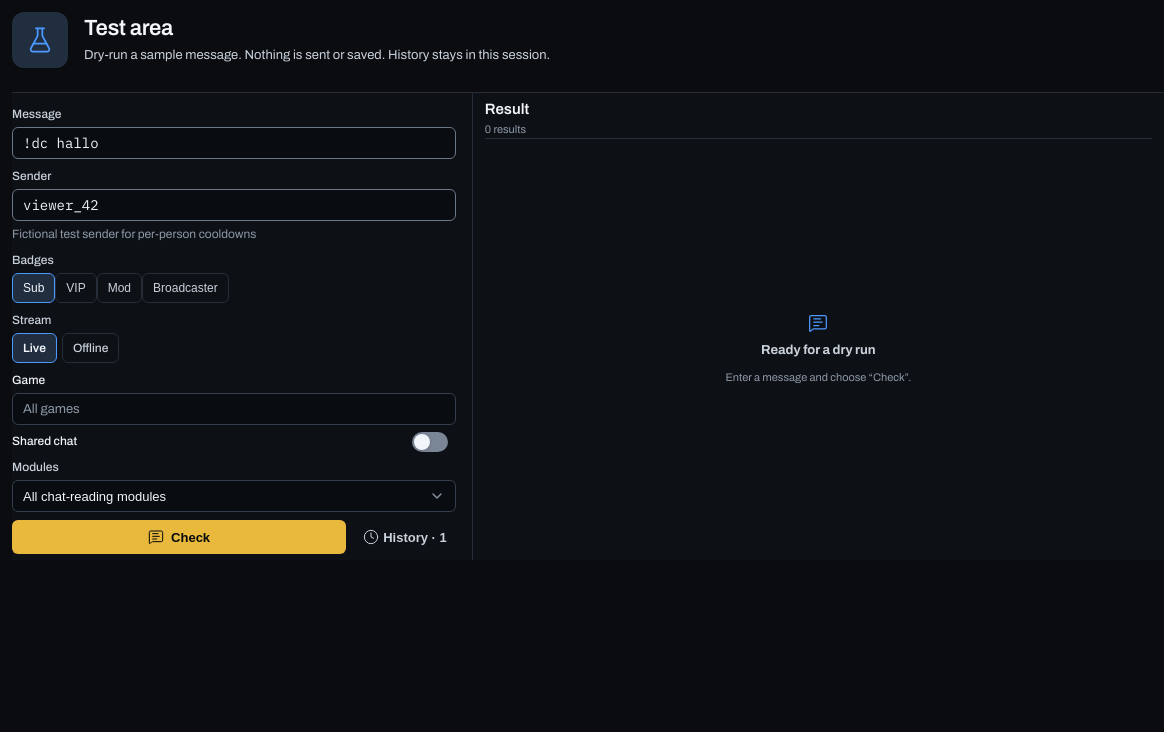
Testbereich voting result regressions › localizes an untitled ballot in English result rows and details
Replace the text in the field labelled "Message" with "!vote 2" at (234,143), box left=12, top=127, right=456, bottom=159
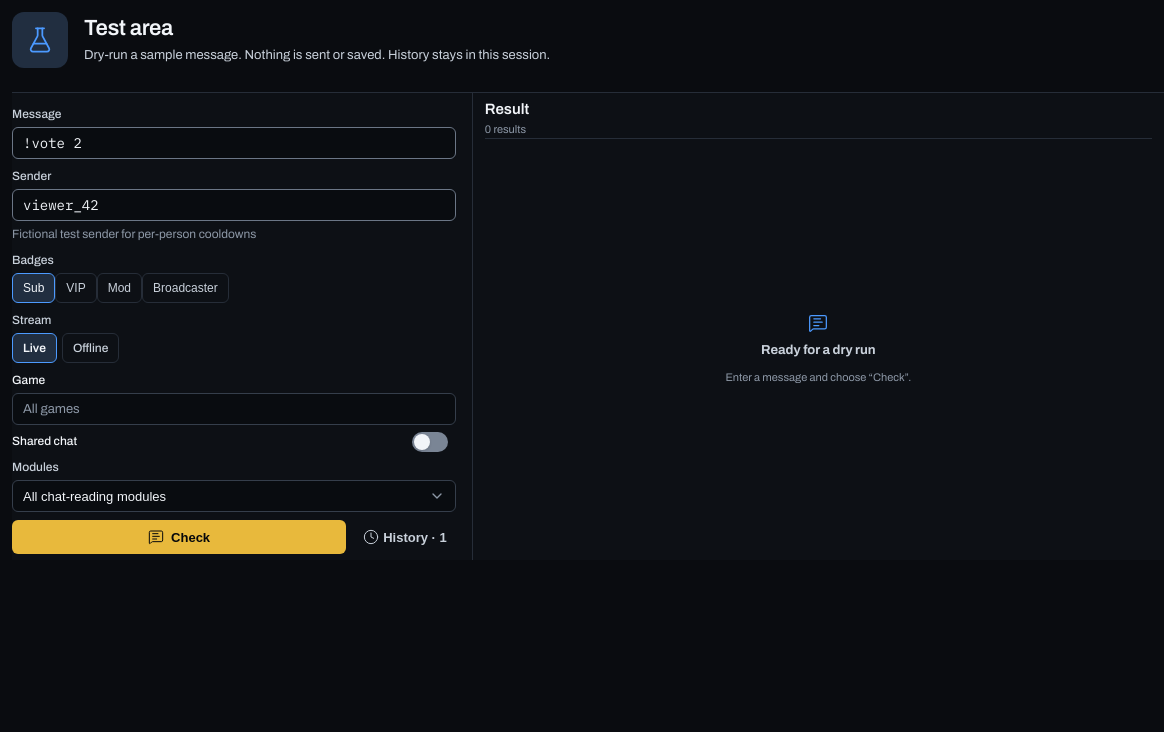
Click the button with class "test-area__run-button" at (179,537), box left=12, top=520, right=346, bottom=554
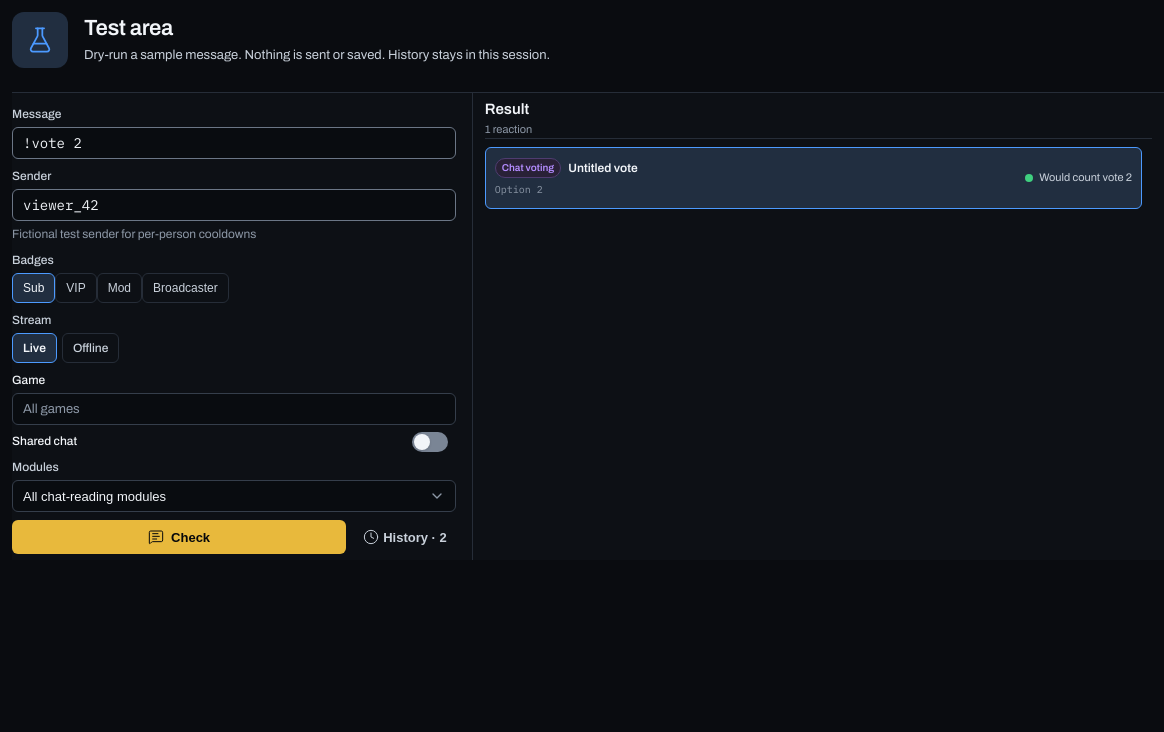
Result: the button "Chat voting Untitled vote Option 2 Would count vote 2" is shown at left=485, top=146, right=1142, bottom=208
